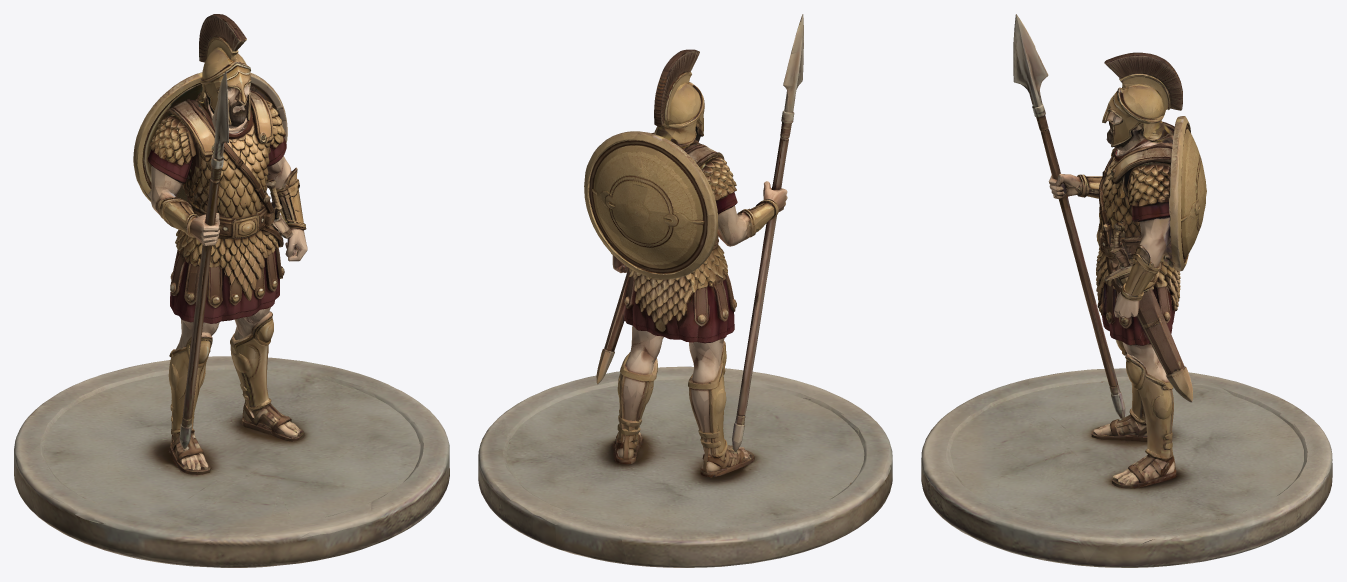
The model's file is goliath.glb.
The picture shows the model from 3 angles, left to right: view 1: azimuth 30°, elevation 25°; view 2: azimuth 150°, elevation 25°; view 3: azimuth 270°, elevation 25°; orthographic projection. The views are drawn at different scales.
Size of the model in its own units: 1.61 by 1.9 by 1.61.
Materials: 1 (1 with a texture image).
